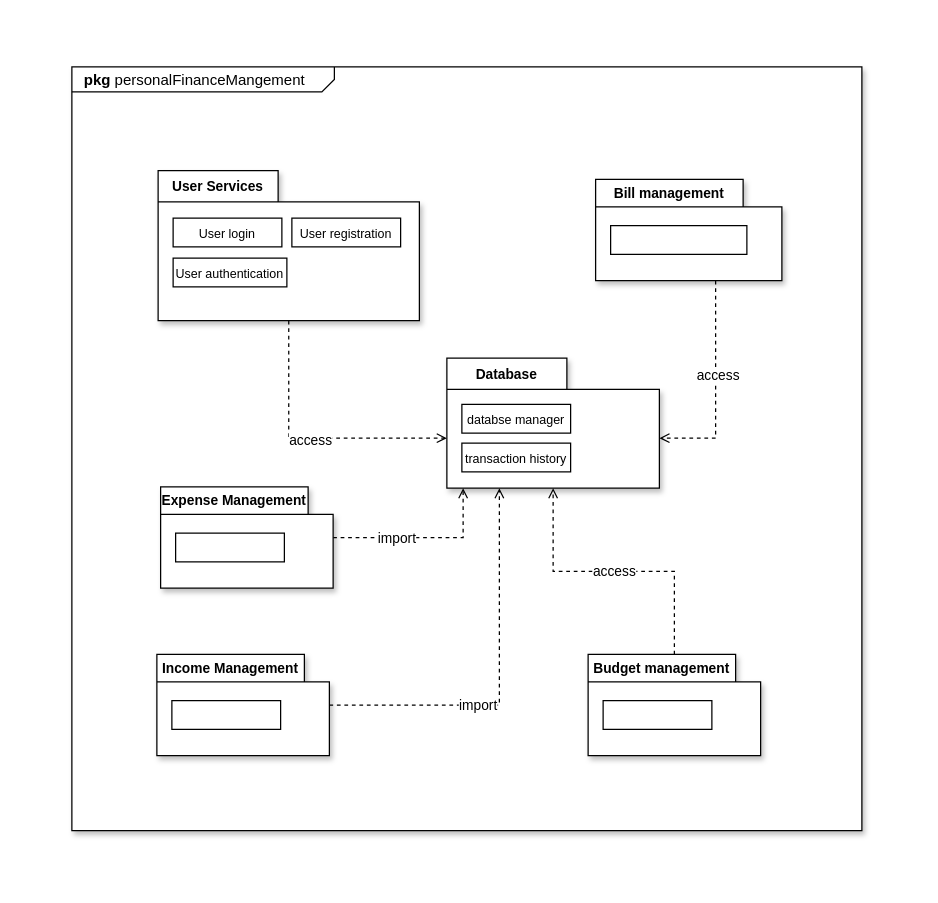
The diagram is 938 pixels wide and 903 high, and some of its shapes have lost their labels. Each missing label, with the centre of its shape:
"Bill Payment Reminder" goes at (678,239).
"Budgeting" goes at (657,714).
"expense tracking" goes at (229,547).
"Income Tracking" goes at (226,714).
